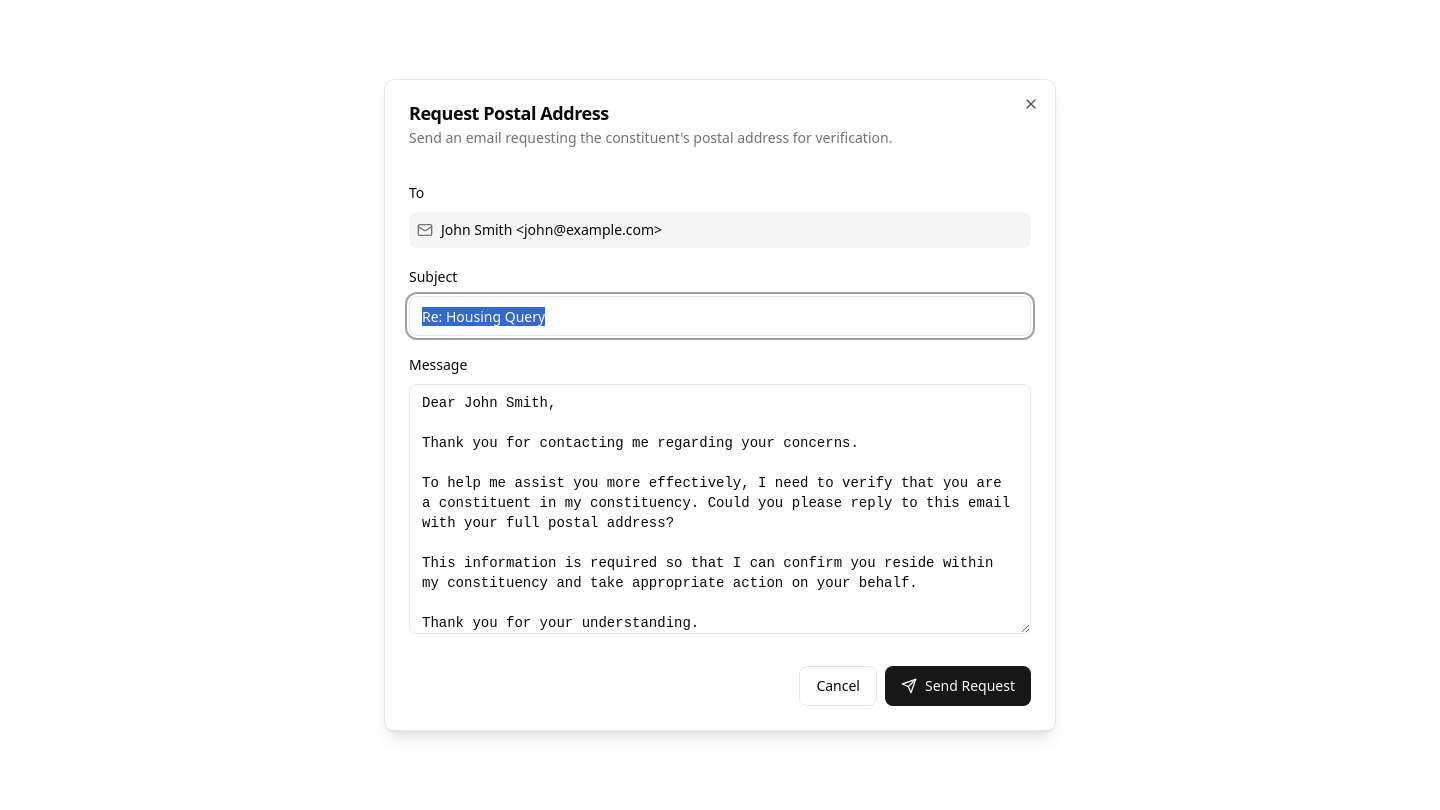
Test: RequestAddressDialog › disables send button when message is empty
The image size is (1440, 810).
Clear the text box labelled "Message" at (720, 509), box left=409, top=384, right=1031, bottom=634
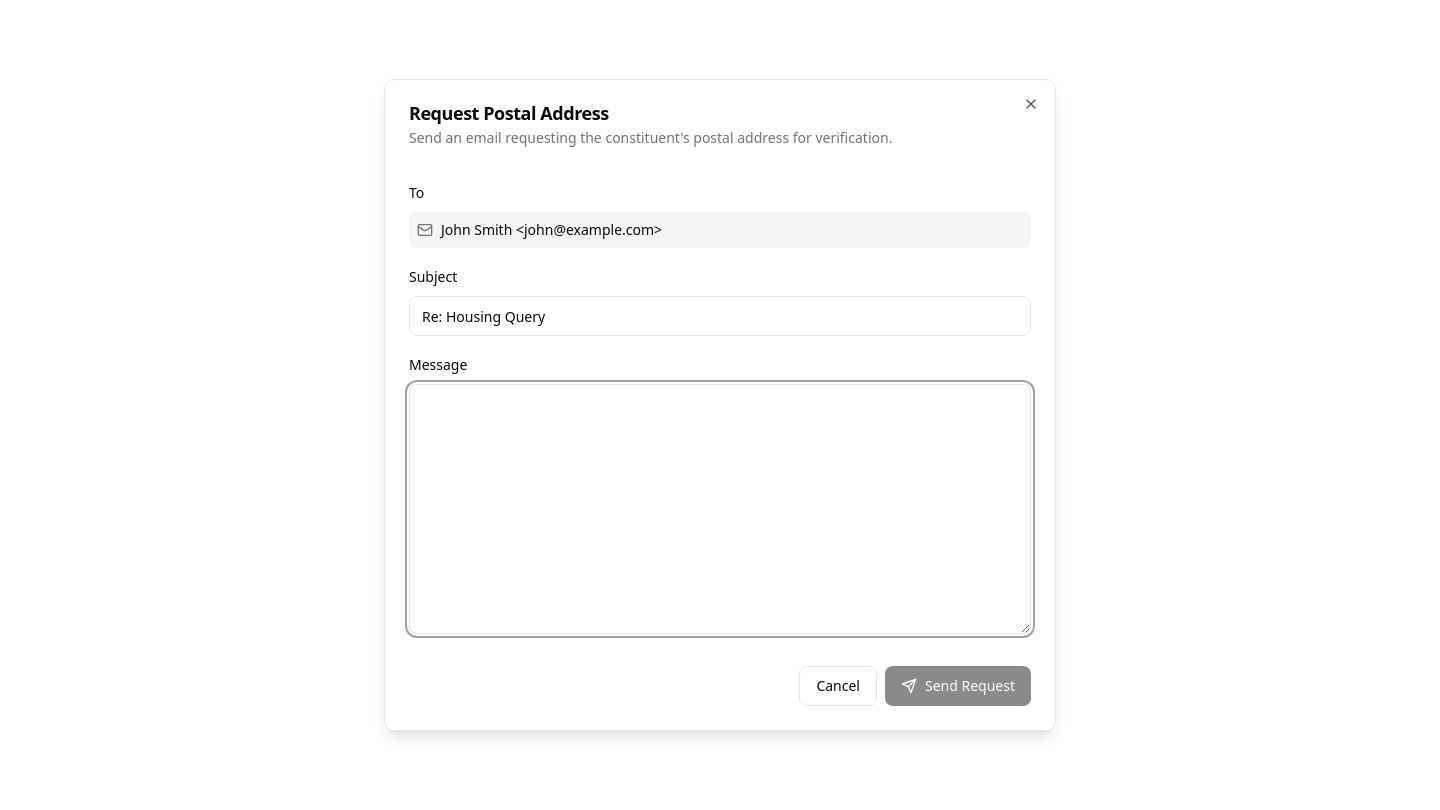
Now the button "Send Request" is disabled, box left=885, top=666, right=1031, bottom=706
